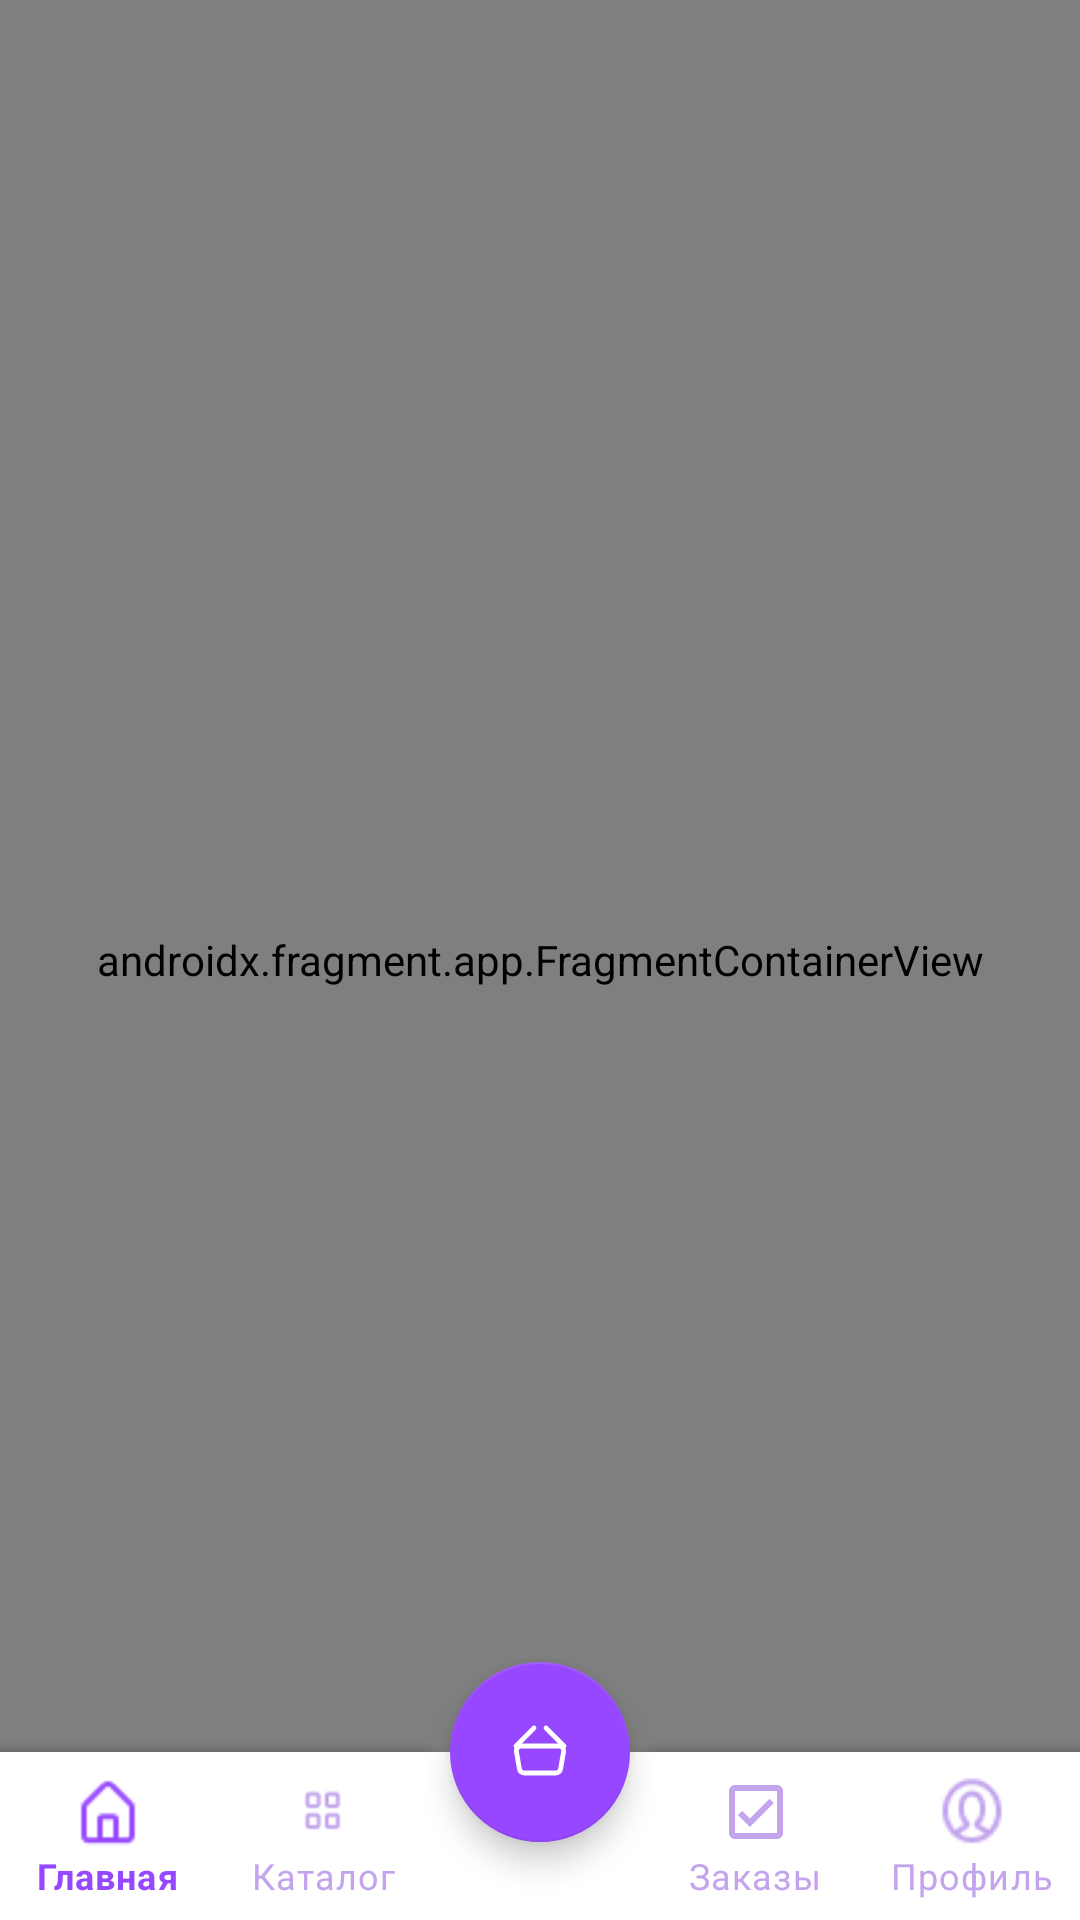

Icons on this 1080px x 1920px Android screen, each with the point to tap as [x,y]:
basket: [540,1752]
